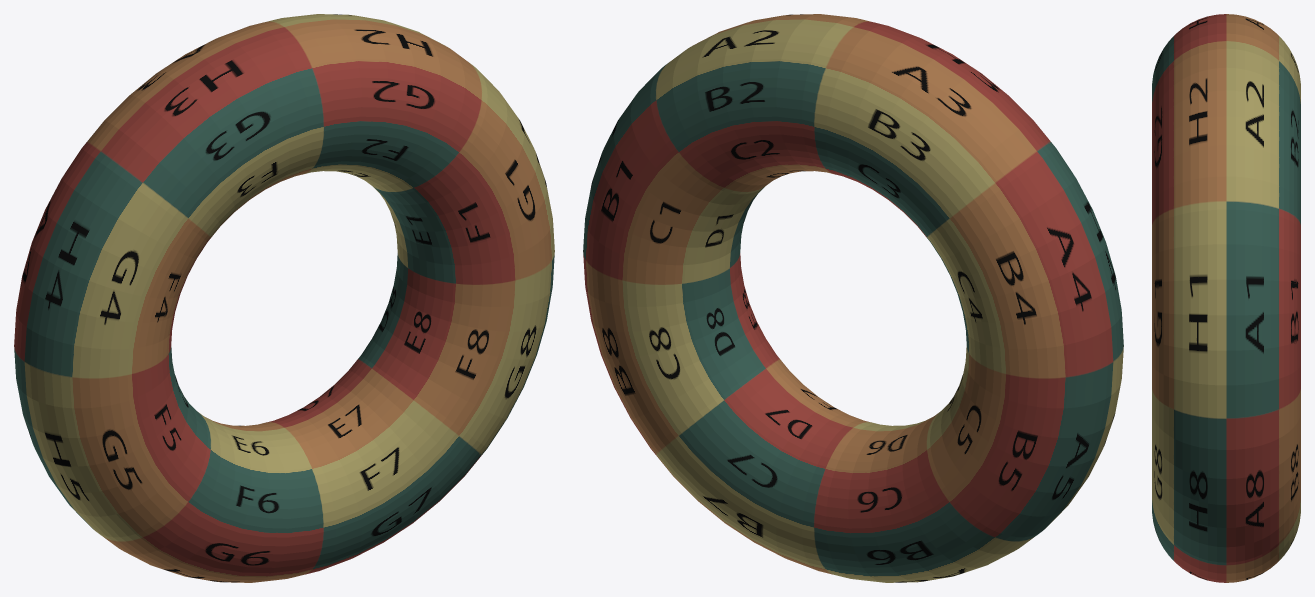
The model's file is texture_torus_R25_r28.glb.
3 renders of one model, left to right at view 1: azimuth 30°, elevation 25°; view 2: azimuth 150°, elevation 25°; view 3: azimuth 270°, elevation 25°, orthographic. The views are drawn at different scales.
Parts seen in each view (by area): view 1: world; view 2: world; view 3: world.
Part boxes in pixels (bbox=[...]): world: bbox=[14, 14, 554, 582]; world: bbox=[583, 14, 1123, 582]; world: bbox=[1152, 14, 1300, 582].
Size of the model in its own units: 36.13 by 36.06 by 9.45.
Materials: 1 (1 with a texture image).
